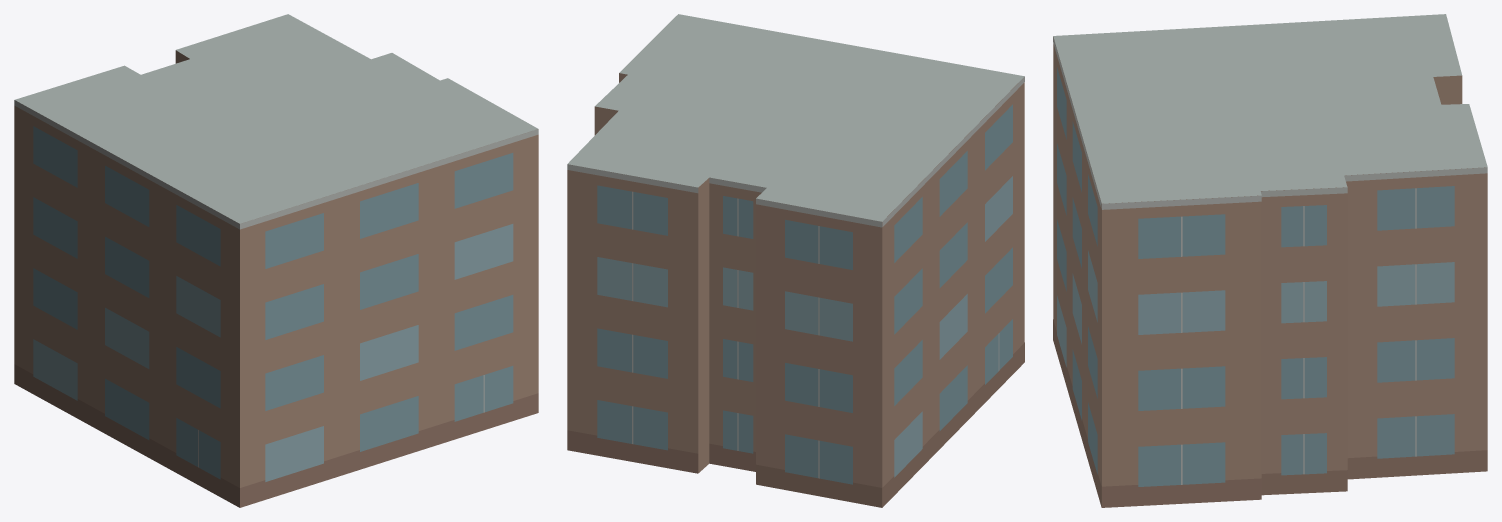
Rendered from survey-upis-32620212.glb.
3 views of the same model, side by side, from view 1: azimuth 30°, elevation 25°; view 2: azimuth 150°, elevation 25°; view 3: azimuth 270°, elevation 25° (orthographic). The views are drawn at different scales.
Parts seen in each view (by area): view 1: survey-upis-32620212.tmp; view 2: survey-upis-32620212.tmp; view 3: survey-upis-32620212.tmp.
Boxes of the visible parts, bbox=[...] form: survey-upis-32620212.tmp: bbox=[14, 14, 538, 507]; survey-upis-32620212.tmp: bbox=[567, 14, 1024, 507]; survey-upis-32620212.tmp: bbox=[1053, 14, 1487, 507].
Bounding box in the file's own units: 16.27 × 12.15 × 15.75.
